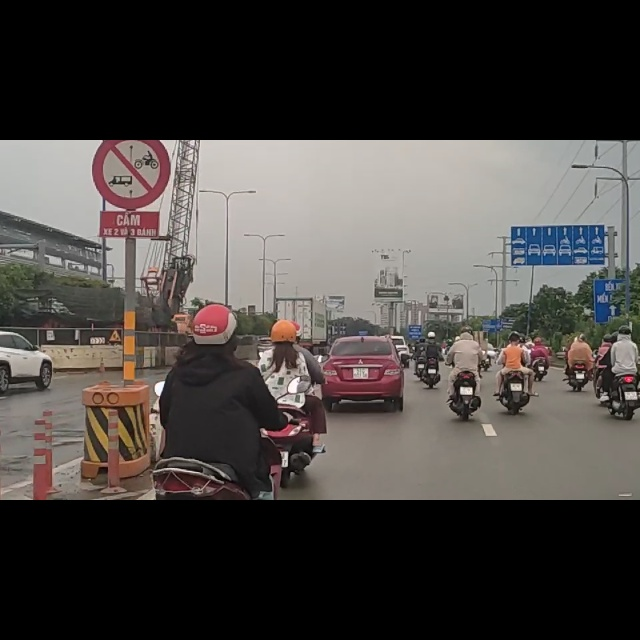bien_cam: (93, 2, 170, 121)
